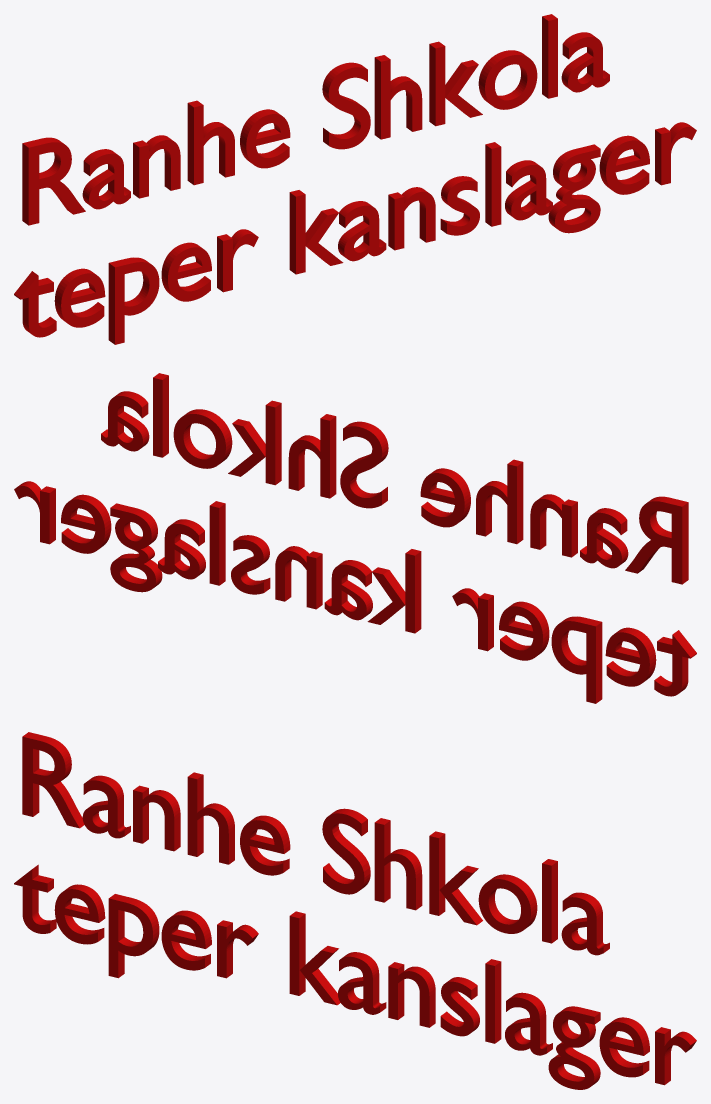
The model's file is ironiyaShkoli.obj.
3 renders of one model, top to bottom at view 1: azimuth 30°, elevation 25°; view 2: azimuth 150°, elevation 25°; view 3: azimuth 330°, elevation 25°, orthographic.
Parts seen in each view (by area): view 1: Text; view 2: Text; view 3: Text.
Part boxes in pixels (x1,y1,x2,y2): Text: [14, 14, 696, 344]; Text: [14, 373, 696, 703]; Text: [14, 732, 696, 1089].
Bounding box in the file's own units: 6.2 × 1.92 × 0.1.
